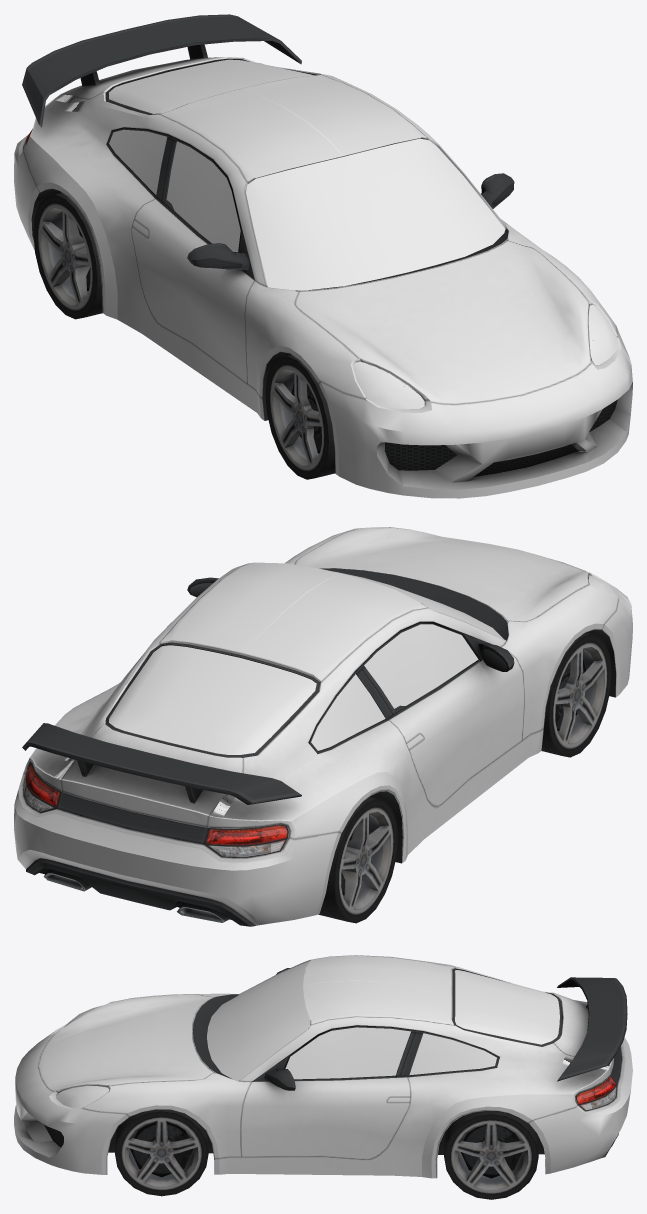
The picture shows the model from 3 angles, top to bottom: view 1: azimuth 30°, elevation 25°; view 2: azimuth 150°, elevation 25°; view 3: azimuth 270°, elevation 25°; orthographic projection. The views are drawn at different scales.
Parts seen in each view (by area): view 1: Body_12, Glass_12, Matte_12, Wheel_Back_R.011, Wheel_R.011, Glass_light.010; view 2: Body_12, Glass_12, Matte_12, Wheel_Back_R.011, Wheel_R.011, Taillights_12; view 3: Body_12, Glass_12, Matte_12, Wheel_Back_L.011, Wheel_L.011, Glass_light.010, Taillights_12.
Boxes of the visible parts, x1=… form: Body_12: x1=14, y1=57, x2=632, y2=498; Glass_12: x1=109, y1=59, x2=505, y2=290; Matte_12: x1=22, y1=14, x2=617, y2=477; Wheel_Back_R.011: x1=33, y1=192, x2=102, y2=319; Wheel_R.011: x1=265, y1=355, x2=335, y2=479; Glass_light.010: x1=353, y1=304, x2=618, y2=409; Body_12: x1=14, y1=527, x2=632, y2=925; Glass_12: x1=109, y1=571, x2=503, y2=754; Matte_12: x1=22, y1=568, x2=615, y2=926; Wheel_Back_R.011: x1=318, y1=797, x2=397, y2=923; Wheel_R.011: x1=541, y1=632, x2=611, y2=757; Taillights_12: x1=23, y1=763, x2=288, y2=857; Body_12: x1=14, y1=955, x2=632, y2=1178; Glass_12: x1=207, y1=961, x2=559, y2=1080; Matte_12: x1=44, y1=968, x2=627, y2=1178; Wheel_Back_L.011: x1=444, y1=1111, x2=538, y2=1199; Wheel_L.011: x1=115, y1=1109, x2=208, y2=1196; Glass_light.010: x1=56, y1=1005, x2=109, y2=1108; Taillights_12: x1=576, y1=1075, x2=617, y2=1111.
Size of the model in its own units: 197 by 130 by 443.
